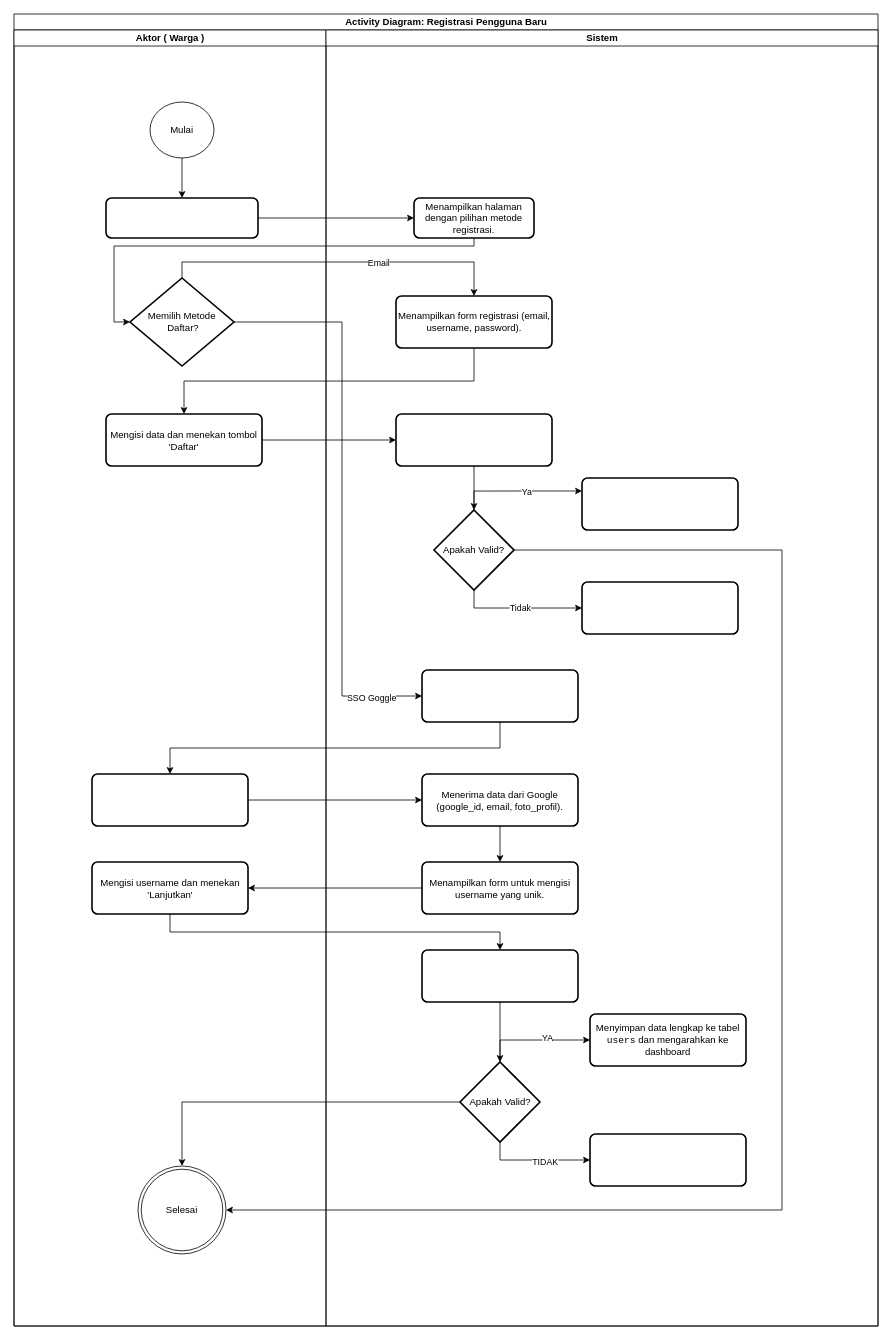
This 892x1340 diagram has some shape labels left out. Here are the shapes that lost their labels. From the top down, the box of each, then its label:
(105, 197, 258, 238): Mengakses halaman registrasi
(395, 413, 552, 466): Menerima & memvalidasi data (email & username unik).
(581, 477, 738, 530): Menyimpan data ke tabel users dan mengarahkan ke halaman login.
(581, 581, 738, 634): Menampilkan pesan error.
(421, 669, 578, 722): Redirect ke Google Auth & Validasi Email
(91, 773, 248, 826): Melakukan login dan memberikan izin di halaman Google
(421, 949, 578, 1002): Memvalidasi keunikan username.
(589, 1133, 746, 1186): Menampilkan pesan error "Username sudah digunakan".
